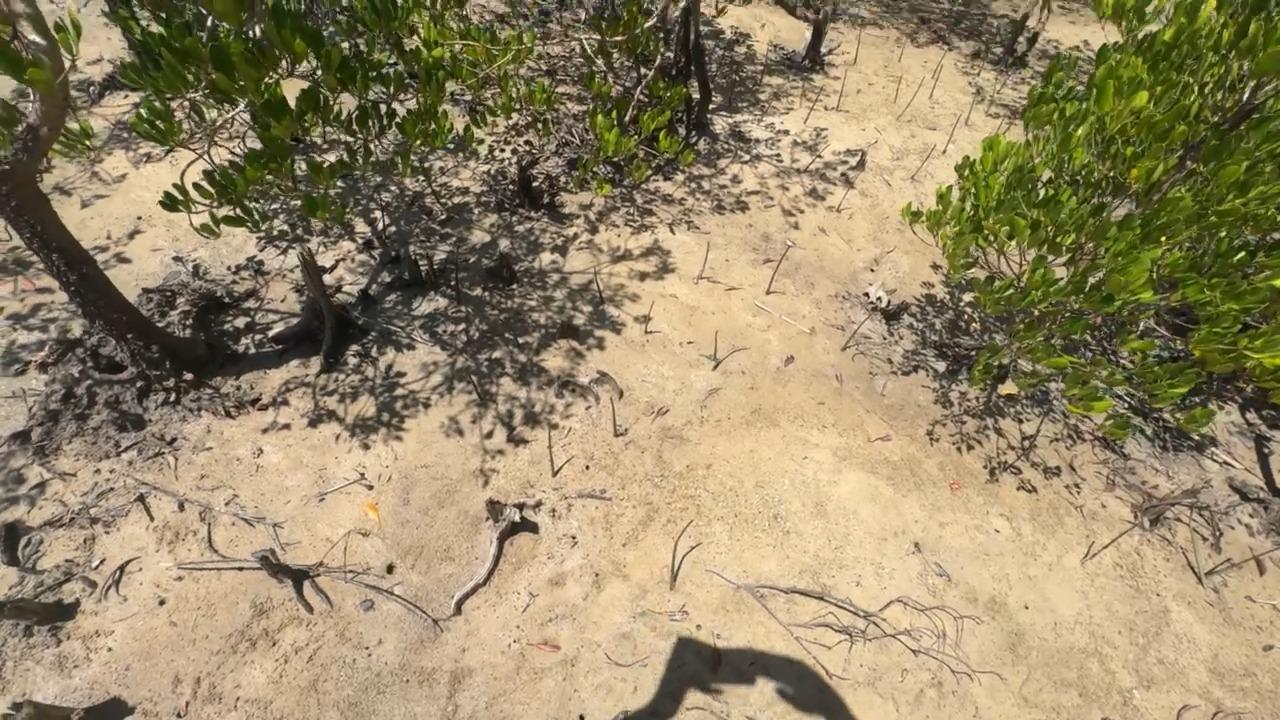Tree: (669, 518, 696, 591), (840, 310, 876, 352), (895, 74, 926, 121), (765, 245, 791, 295), (836, 171, 863, 211), (910, 143, 937, 179), (803, 84, 826, 125), (941, 114, 962, 155), (803, 143, 832, 172), (695, 240, 710, 279), (928, 64, 944, 99), (1204, 557, 1234, 575), (836, 68, 848, 112), (931, 49, 948, 79), (546, 424, 555, 478), (593, 265, 605, 304), (725, 73, 736, 109), (644, 300, 655, 335), (965, 94, 977, 126), (609, 396, 618, 437), (759, 48, 769, 84), (894, 74, 906, 103), (1080, 540, 1096, 561), (976, 51, 989, 76), (854, 26, 862, 64), (455, 245, 460, 304), (997, 75, 1011, 94), (898, 37, 907, 63), (129, 491, 144, 505), (714, 330, 719, 360), (993, 76, 998, 96)
